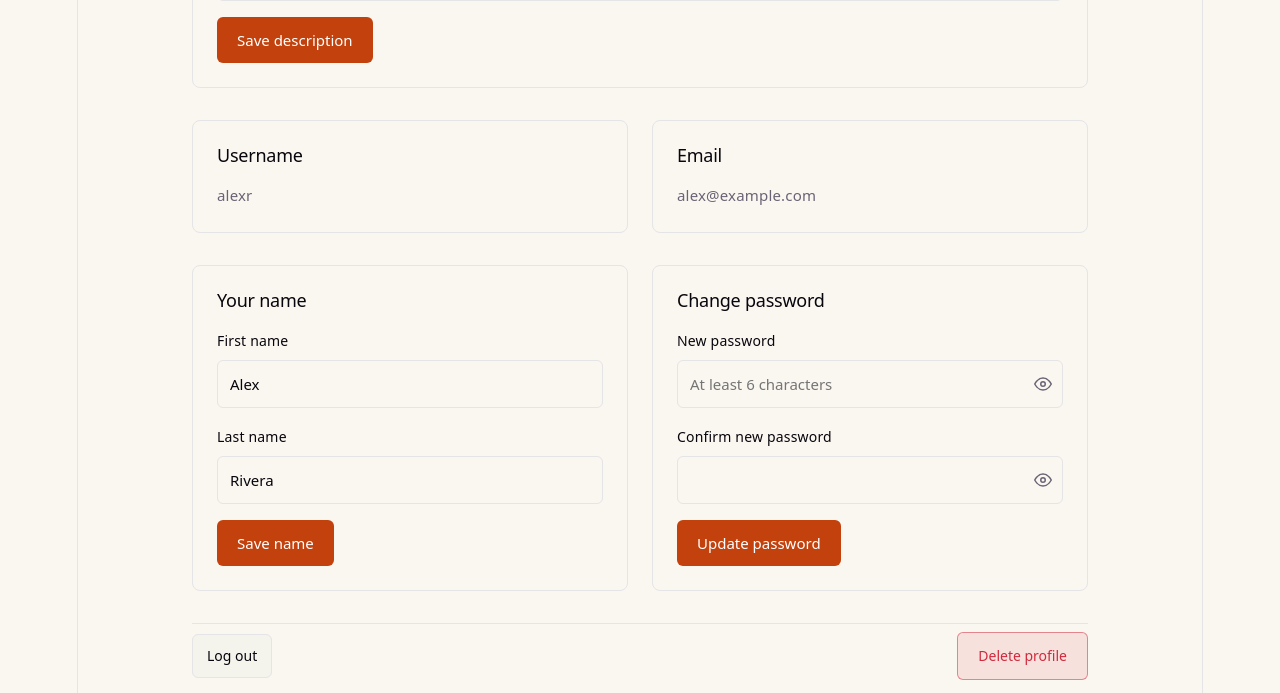
it: Profile › rejects a first name shorter than 4 characters
The image size is (1280, 693).
(page scrolled)
Replace the text in the field labelled "First name" with "Al" at (410, 384), box x1=217 y1=360 x2=603 y2=408
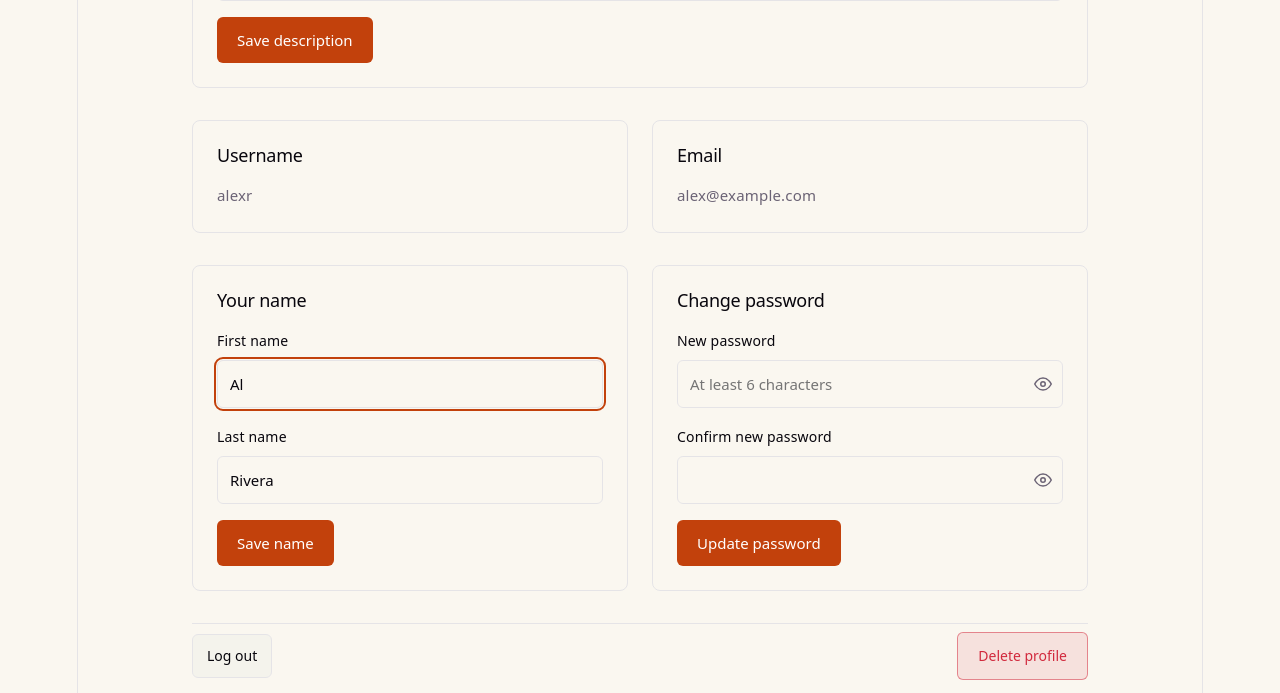
Click the button "Save name" at (275, 543), box x1=217 y1=520 x2=334 y2=566
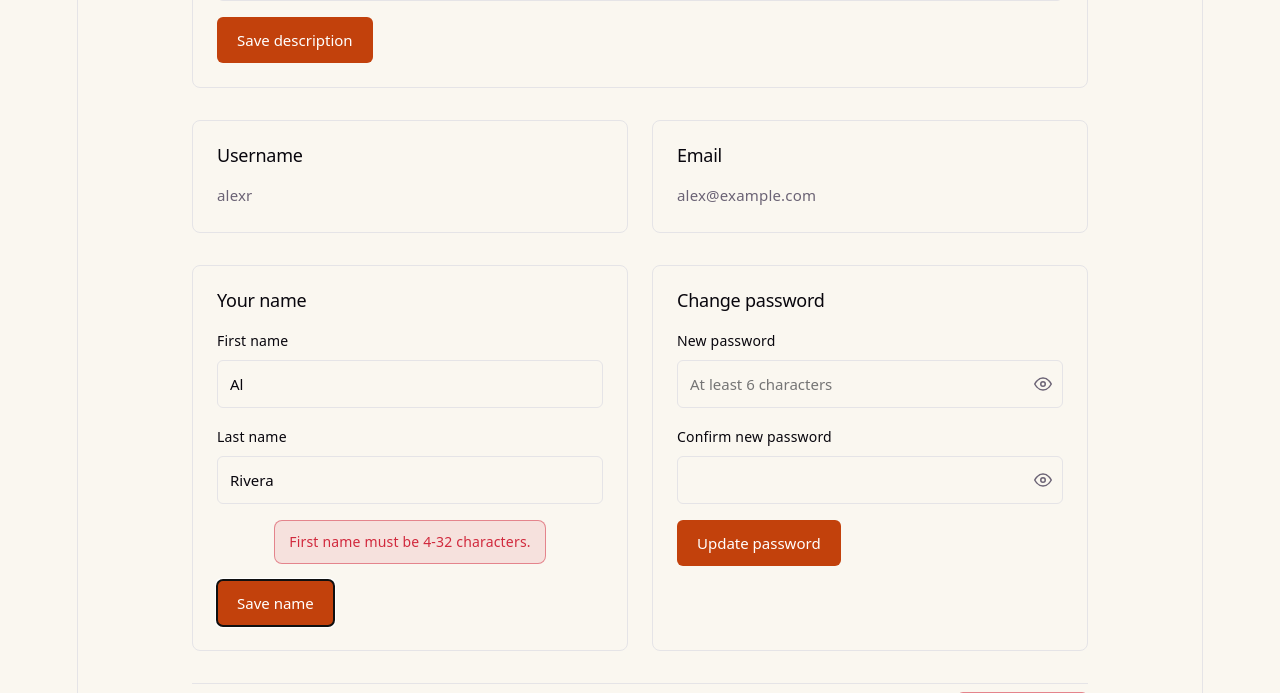
Expected: the text "First name must be 4-32 characters." is shown, x1=274 y1=520 x2=546 y2=564
